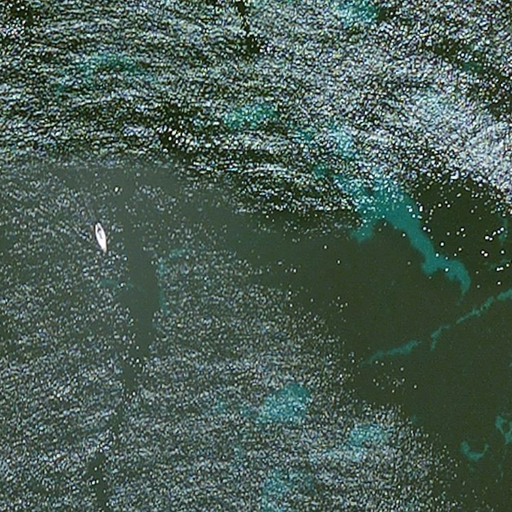ship: (92, 219, 110, 255)
